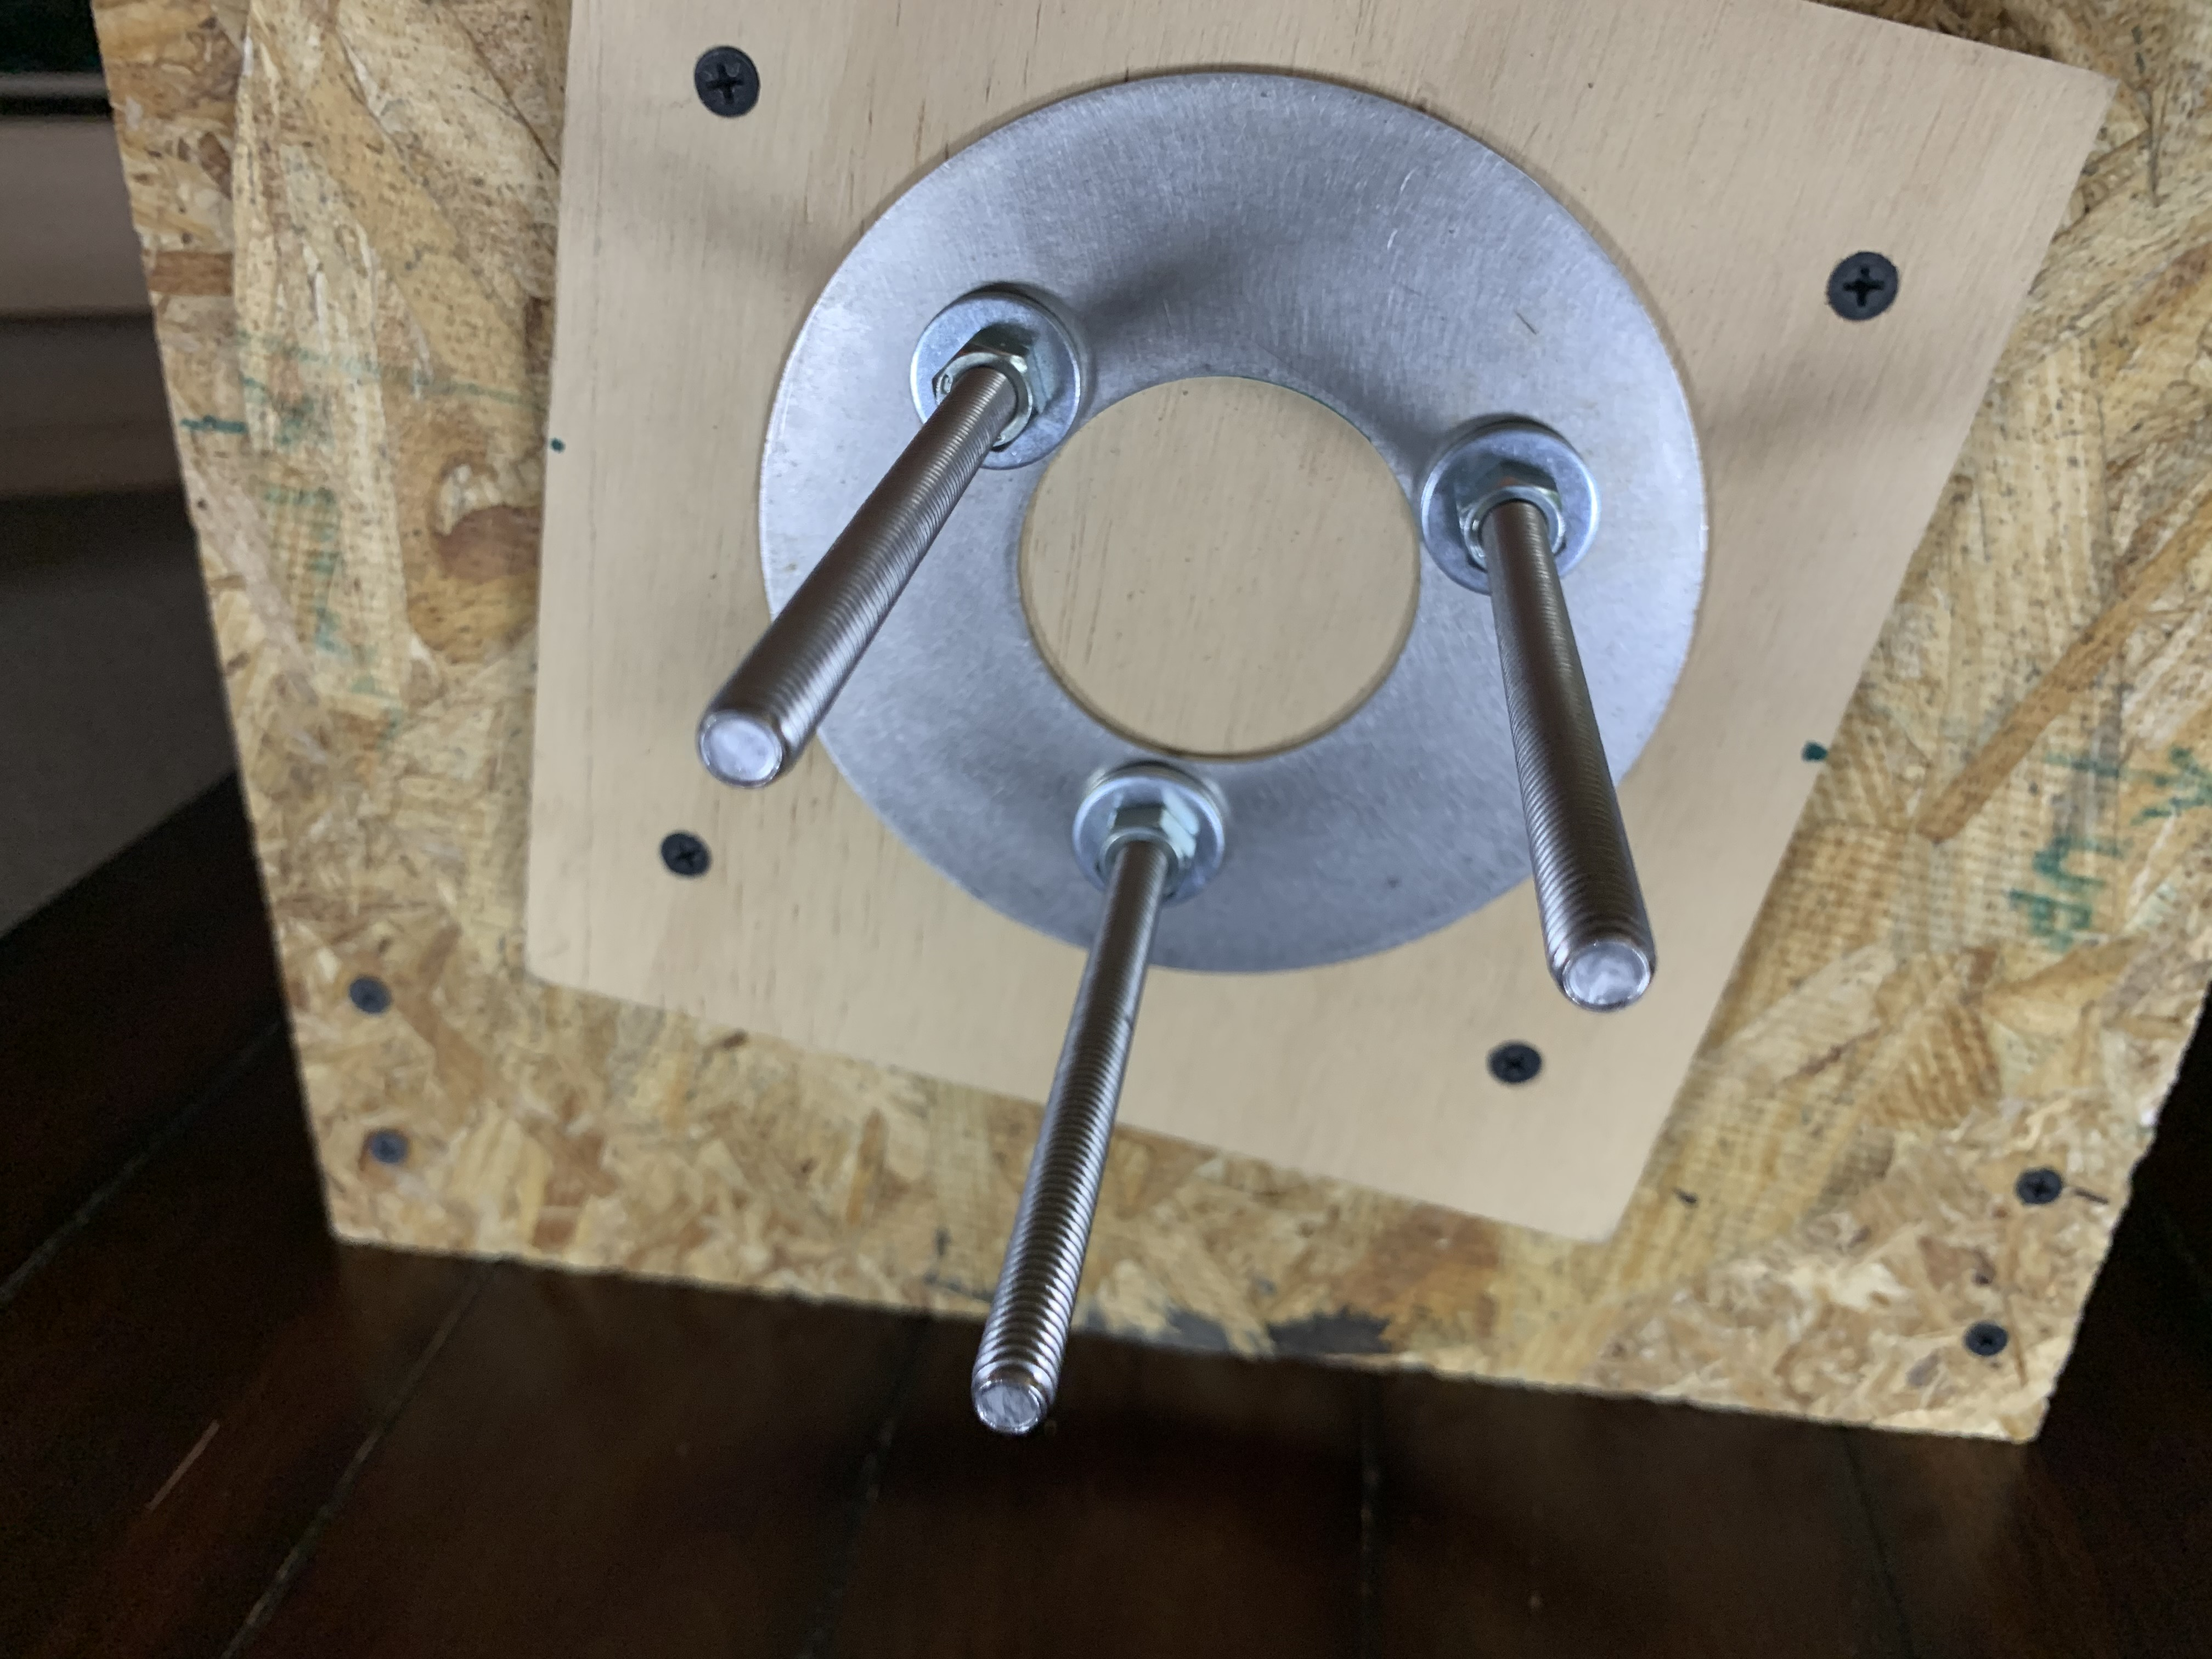bolt: (1411, 410, 1599, 598), (904, 284, 1097, 465), (1066, 765, 1233, 906)
